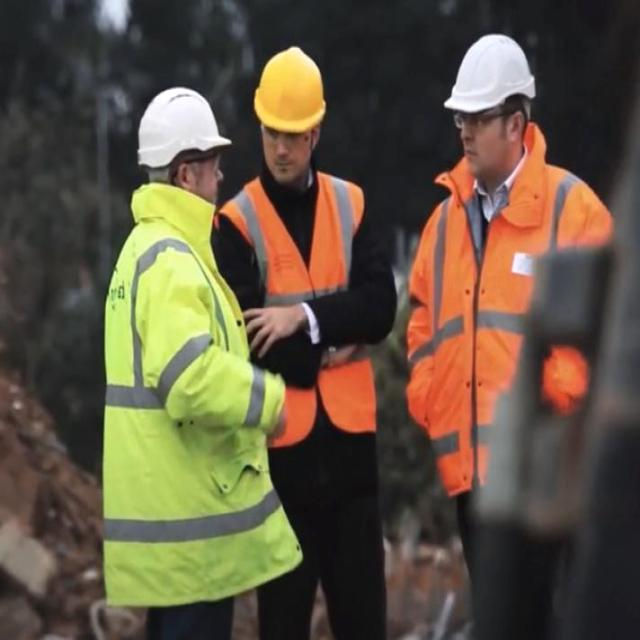face_nomask: (456, 107, 515, 176), (261, 126, 311, 184), (184, 152, 230, 215)
glasses: (454, 108, 492, 134)
hand_noglove: (241, 297, 308, 362)
head_helmet: (134, 83, 226, 164), (445, 34, 535, 112), (252, 43, 331, 131)
person: (412, 26, 608, 620), (246, 46, 388, 636), (93, 78, 239, 636)
vest: (419, 167, 599, 479), (111, 229, 239, 592), (232, 177, 373, 417)
